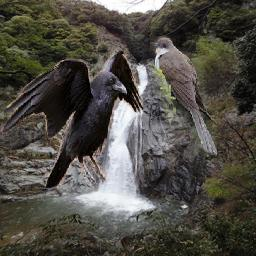Crow: (1, 48, 144, 188)
Cuckoo: (151, 37, 218, 158)
